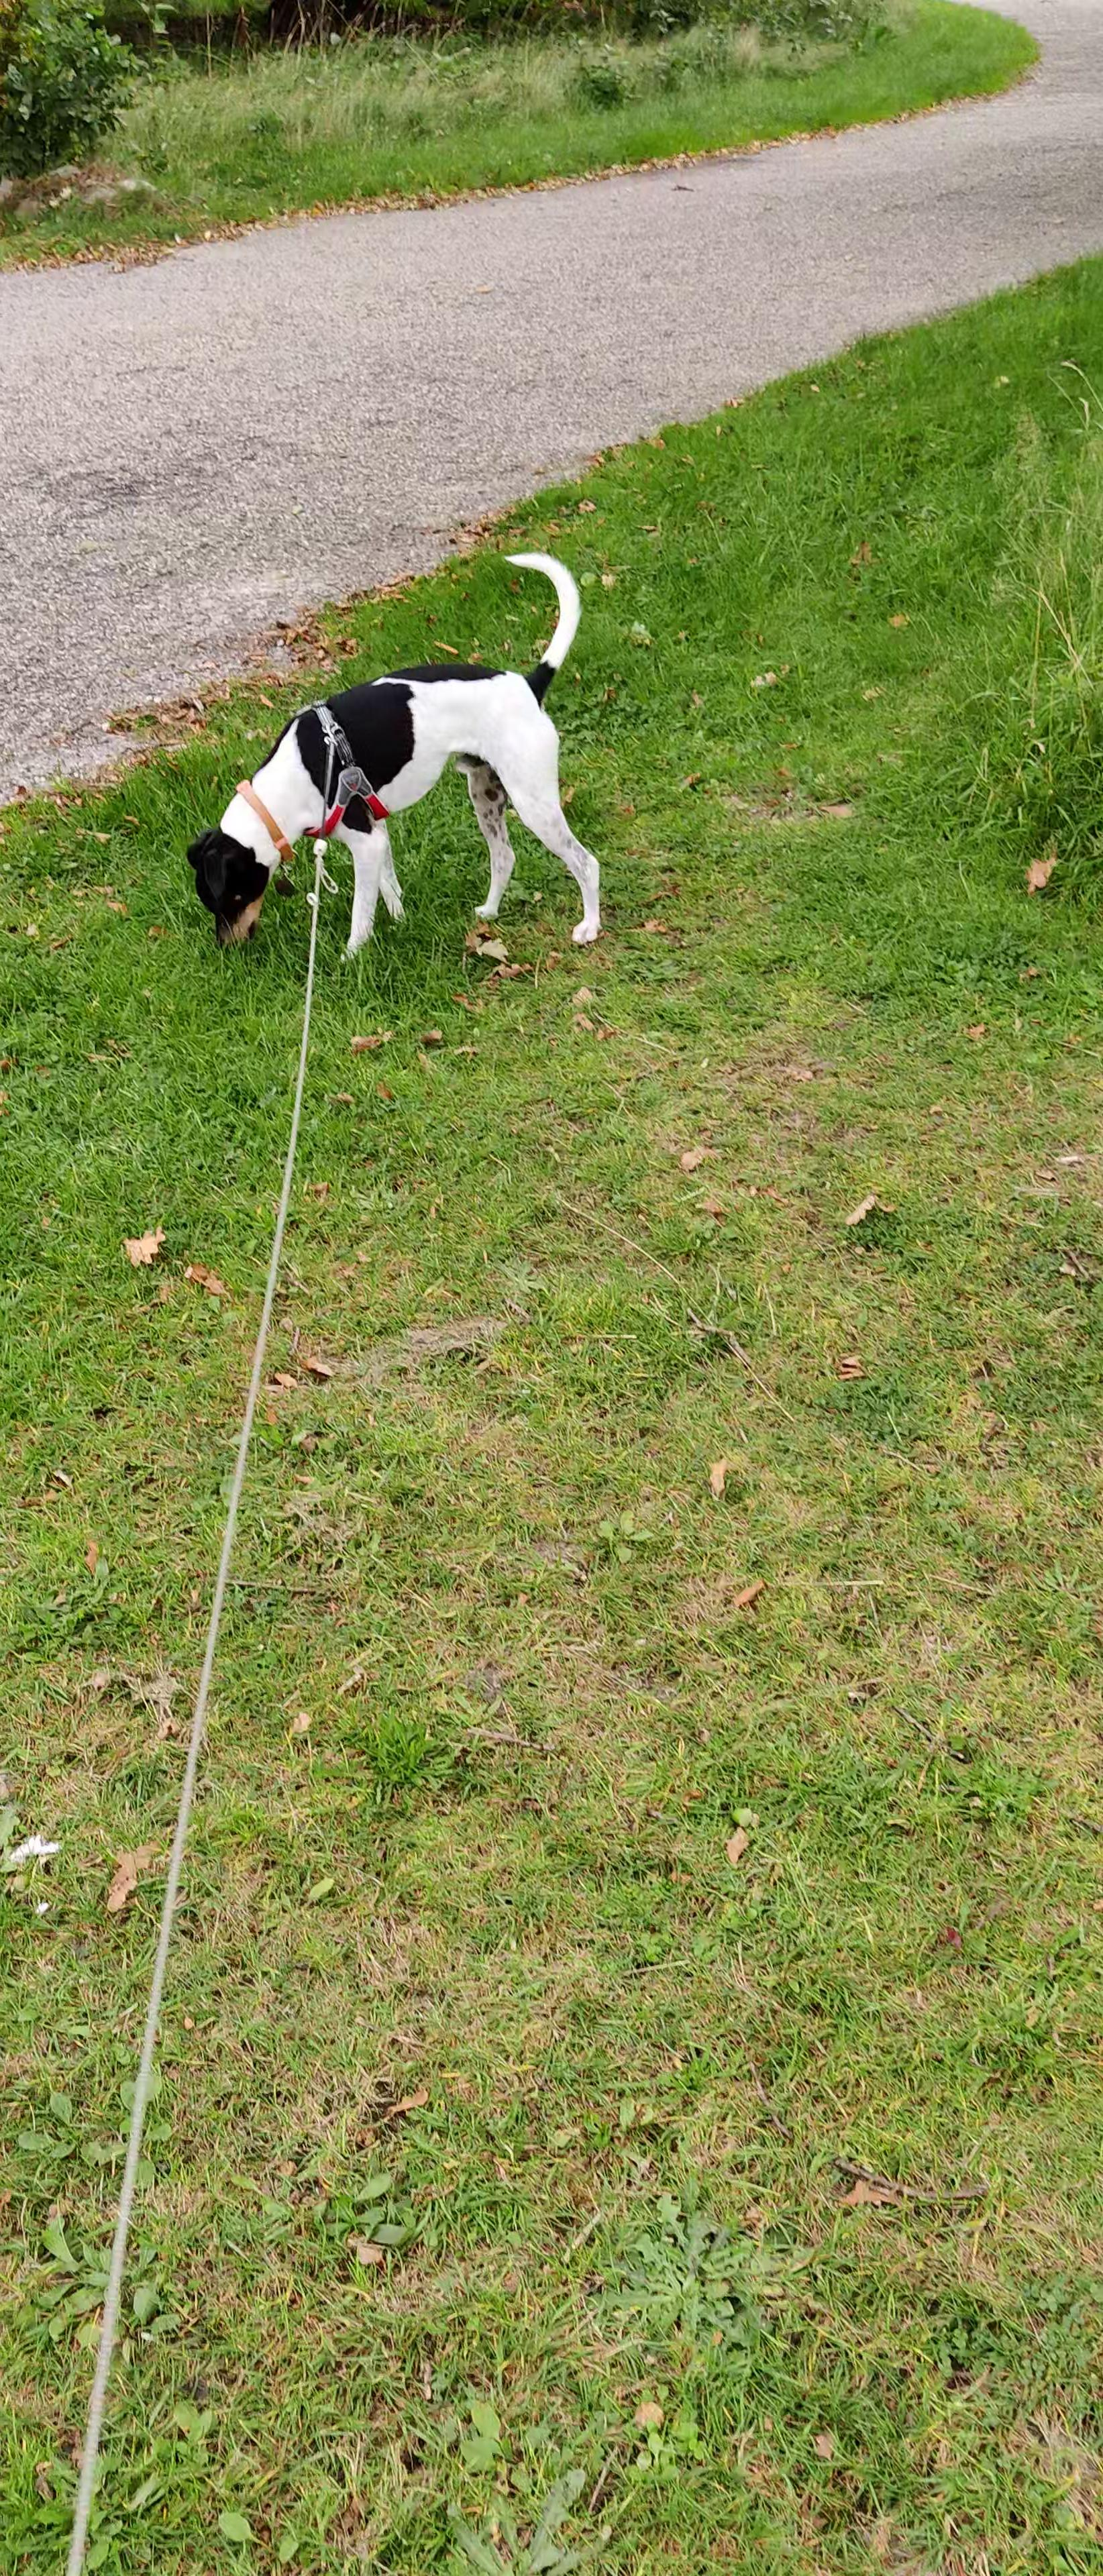Dog: (179, 545, 608, 956)
